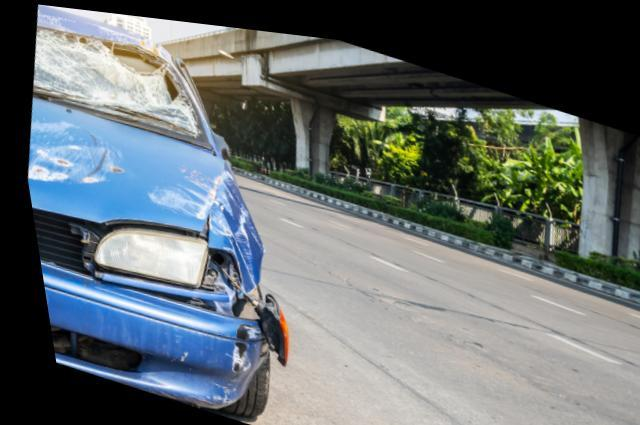dislocated part: (32, 260, 254, 408)
glass shatter: (30, 25, 202, 136)
scratch: (22, 112, 120, 183), (199, 167, 258, 283), (36, 7, 163, 55), (189, 316, 252, 404), (140, 161, 217, 218)
